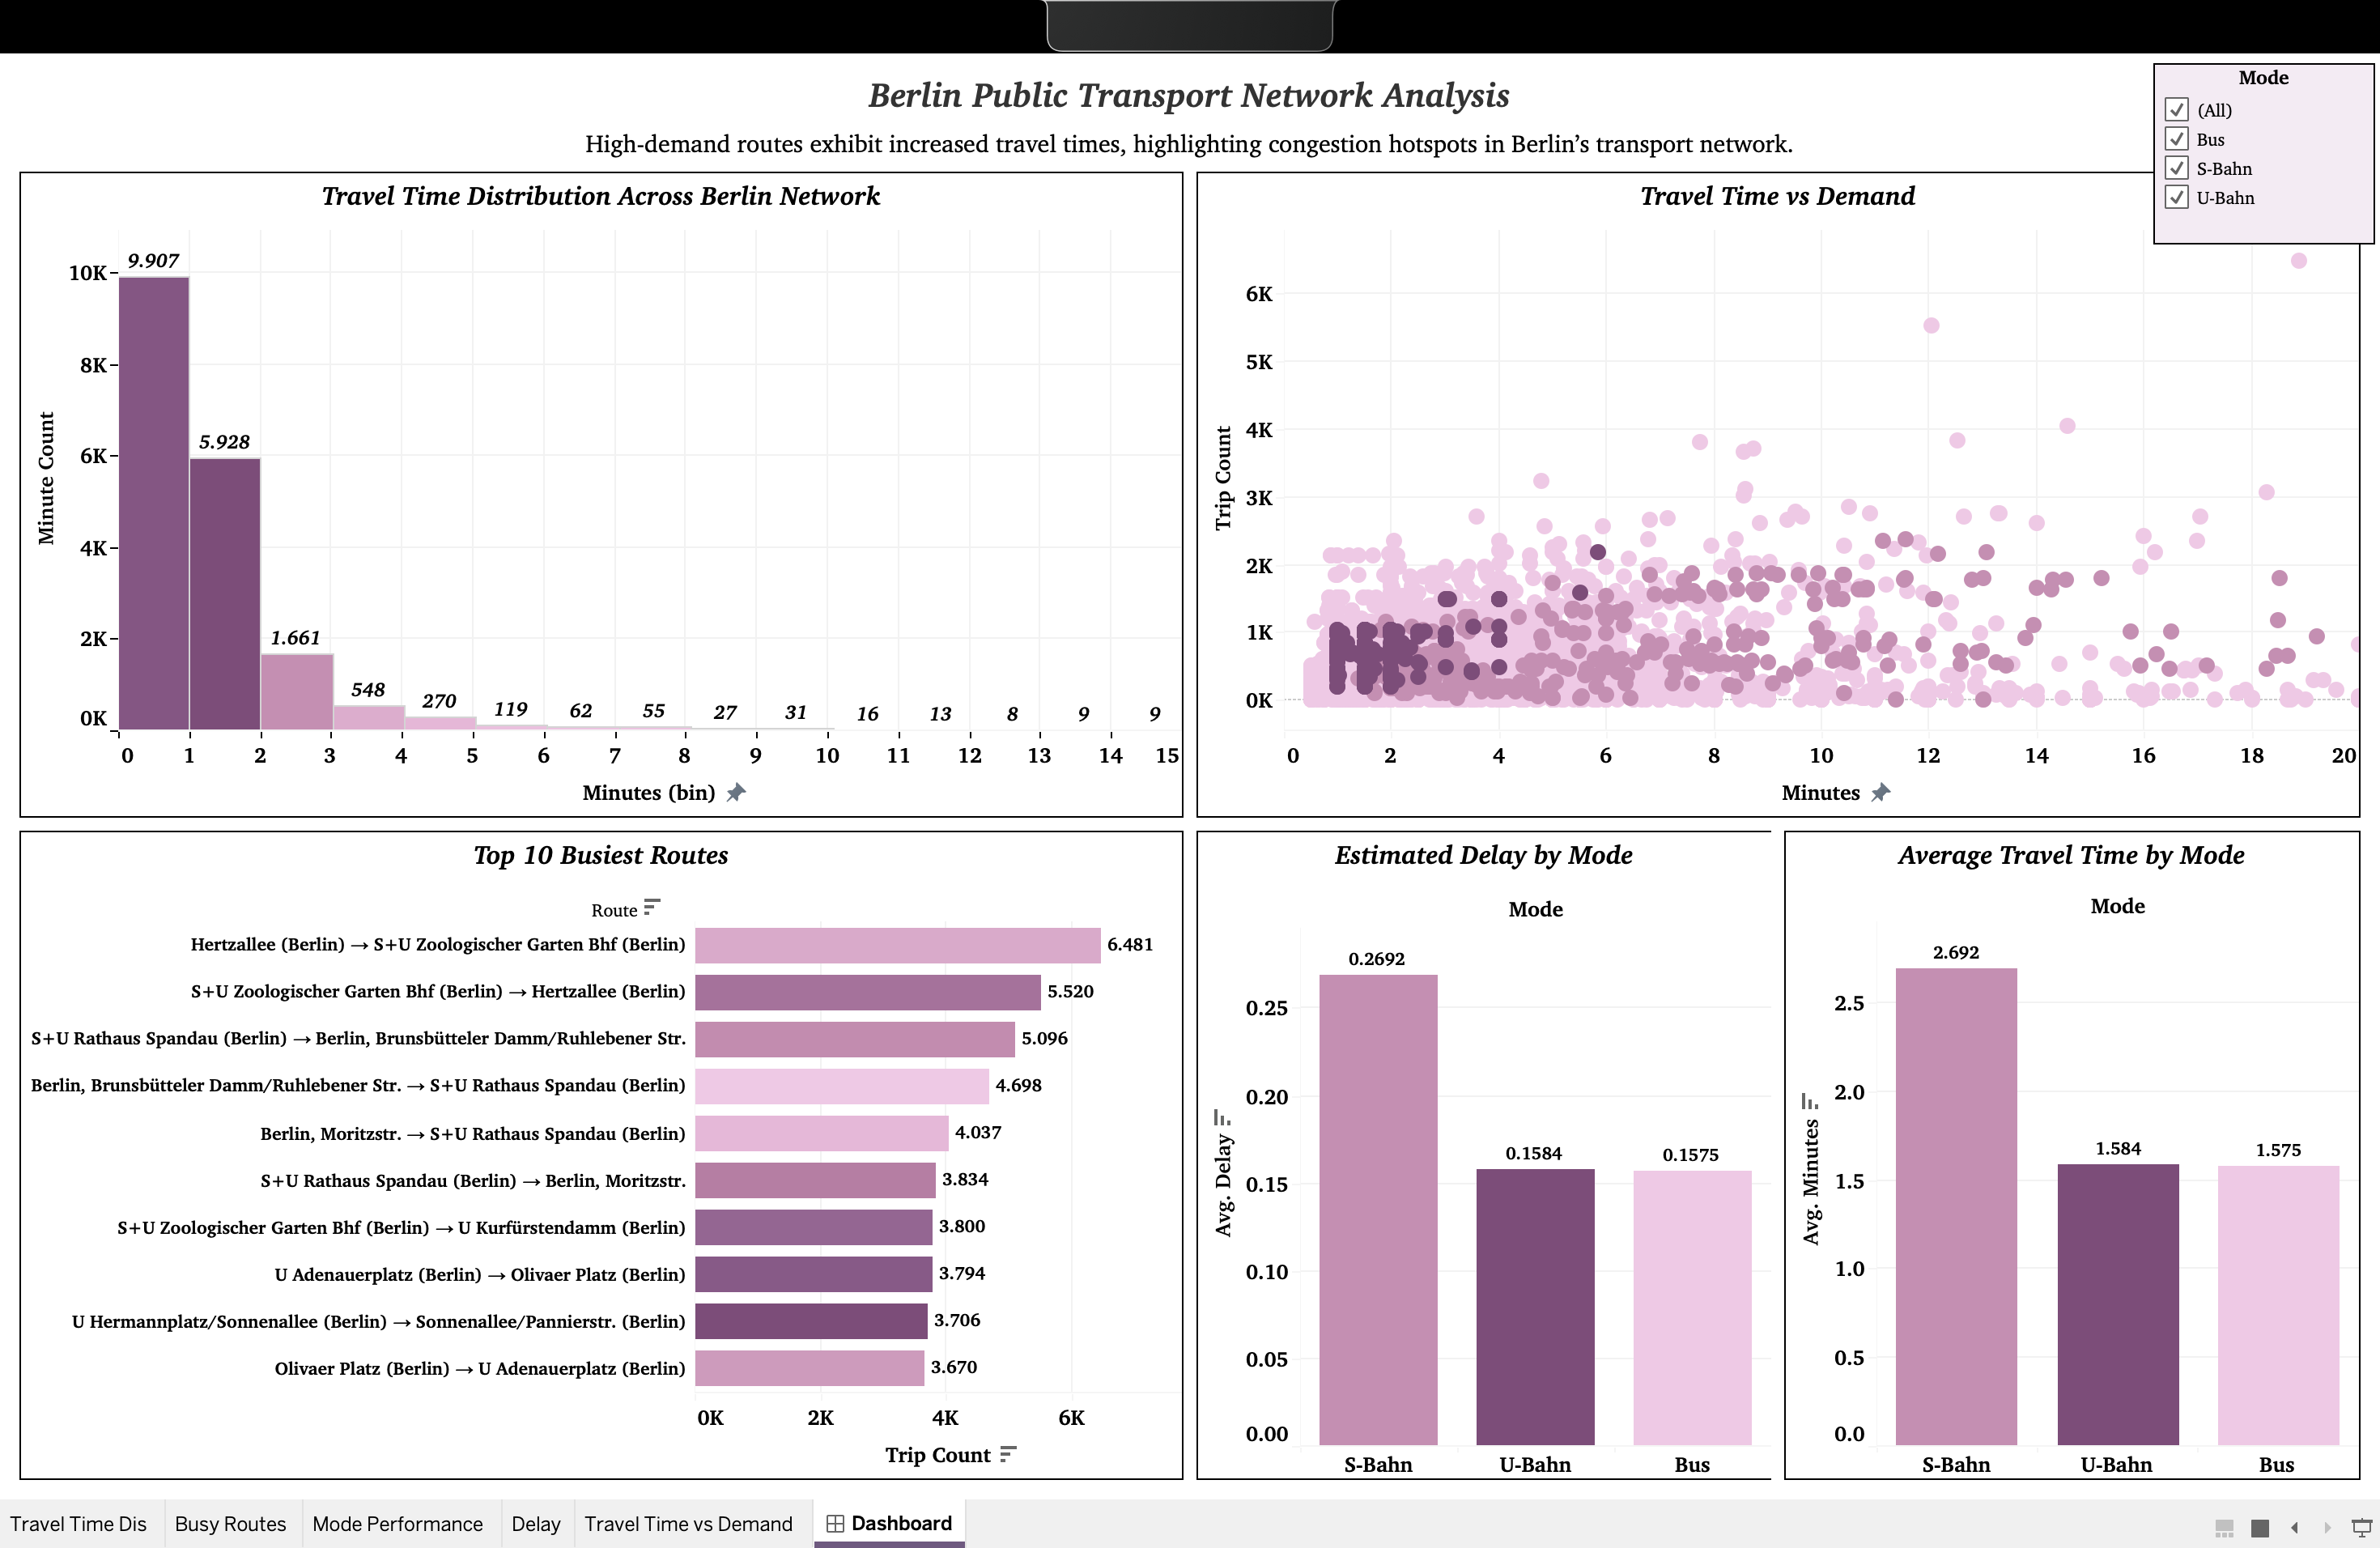

Layout of this report page (visuals, bound fields, positions):
{"tool":"tableau","page":{"name":"Dashboard","canvas":[1000,1000],"units":"permille","ordinal":0},"visuals":[{"type":"filter","title":"Mode Performance","param":"[federated.1isz0k309cqoer1agsan001z0ic9].[none:mode:nk]","box":[904.7,6.9,92.9,125.2]},{"type":"title","box":[6.4,11,987.3,46.6]},{"type":"text","box":[6.4,57.6,987.3,37]},{"type":"worksheet","title":"Travel Time Dis","mark":"Automatic","rows":["minutes"],"cols":["Minutes (bin)"],"box":[6.4,94.6,493.4,446.2]},{"type":"worksheet","title":"Travel Time vs Demand","mark":"Circle","rows":["trip_count"],"cols":["minutes"],"box":[499.8,94.6,493.9,446.2]},{"type":"worksheet","title":"Busy Routes","mark":"Automatic","rows":["route"],"cols":["trip_count"],"box":[6.4,540.8,493.4,448.2]},{"type":"worksheet","title":"Delay","mark":"Automatic","rows":["delay"],"cols":["mode"],"box":[499.8,540.8,246.8,448.2]},{"type":"worksheet","title":"Mode Performance","mark":"Automatic","rows":["minutes"],"cols":["mode"],"box":[746.6,540.8,247,448.2]}]}

Visuals, with their boxes on the dashboard's canvas, which has no fixed pixel size, in thousandths of its width and height (x1, y1, x2, y2). These are canvas units, not pixel positions in the 2380x1548 screenshot, which may show the page scaled, cropped or inside an application window:
"Mode Performance" filter: [left=905, top=7, right=998, bottom=132]
title: [left=6, top=11, right=994, bottom=58]
text: [left=6, top=58, right=994, bottom=95]
"Travel Time Dis" worksheet: [left=6, top=95, right=500, bottom=541]
"Travel Time vs Demand" worksheet (Circle marks): [left=500, top=95, right=994, bottom=541]
"Busy Routes" worksheet: [left=6, top=541, right=500, bottom=989]
"Delay" worksheet: [left=500, top=541, right=747, bottom=989]
"Mode Performance" worksheet: [left=747, top=541, right=994, bottom=989]
